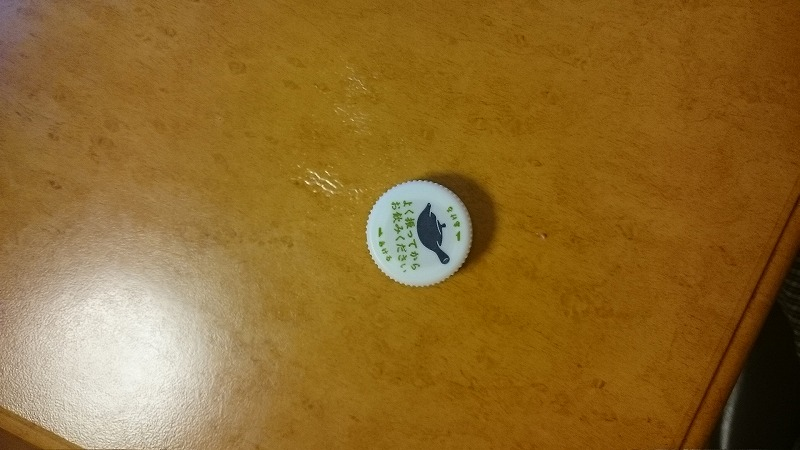A: (362, 171, 482, 297)
